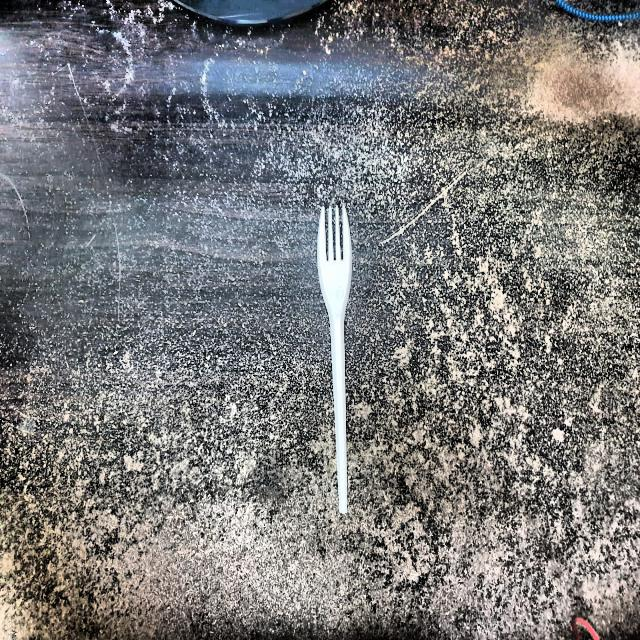plastic utensil: (316, 202, 363, 513)
